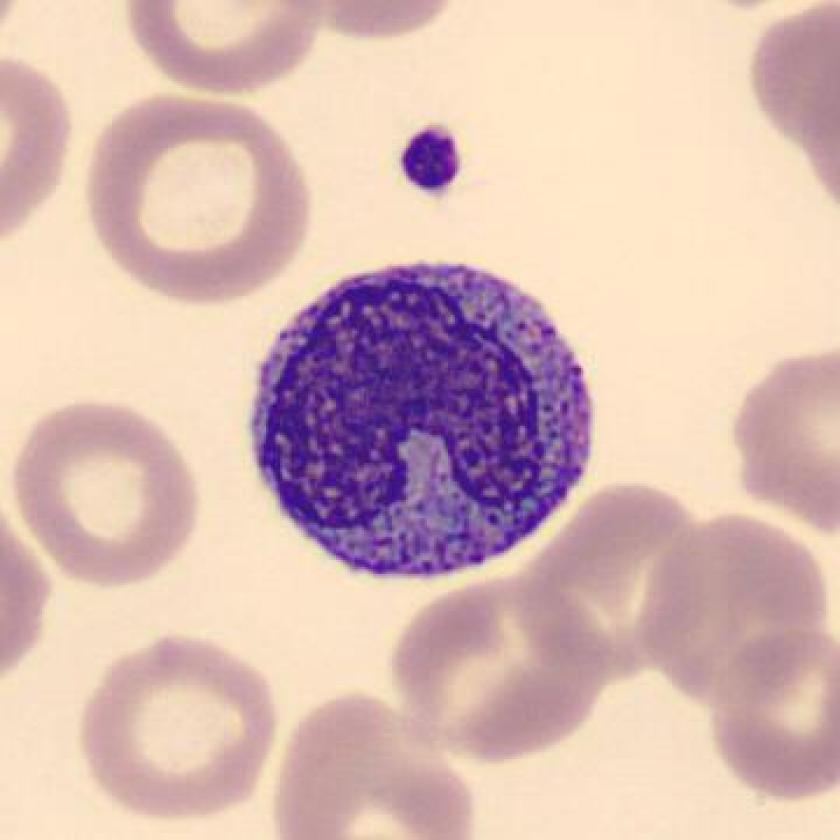monocyte: (230, 237, 626, 603)
